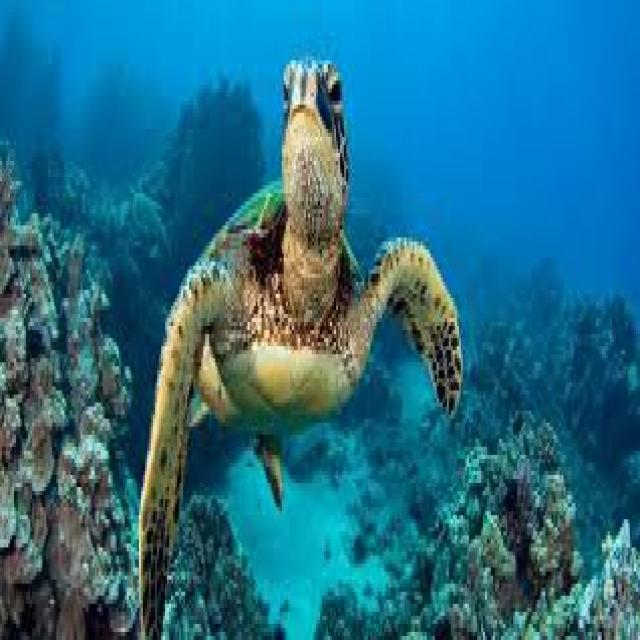turtle: (232, 60, 400, 430)
